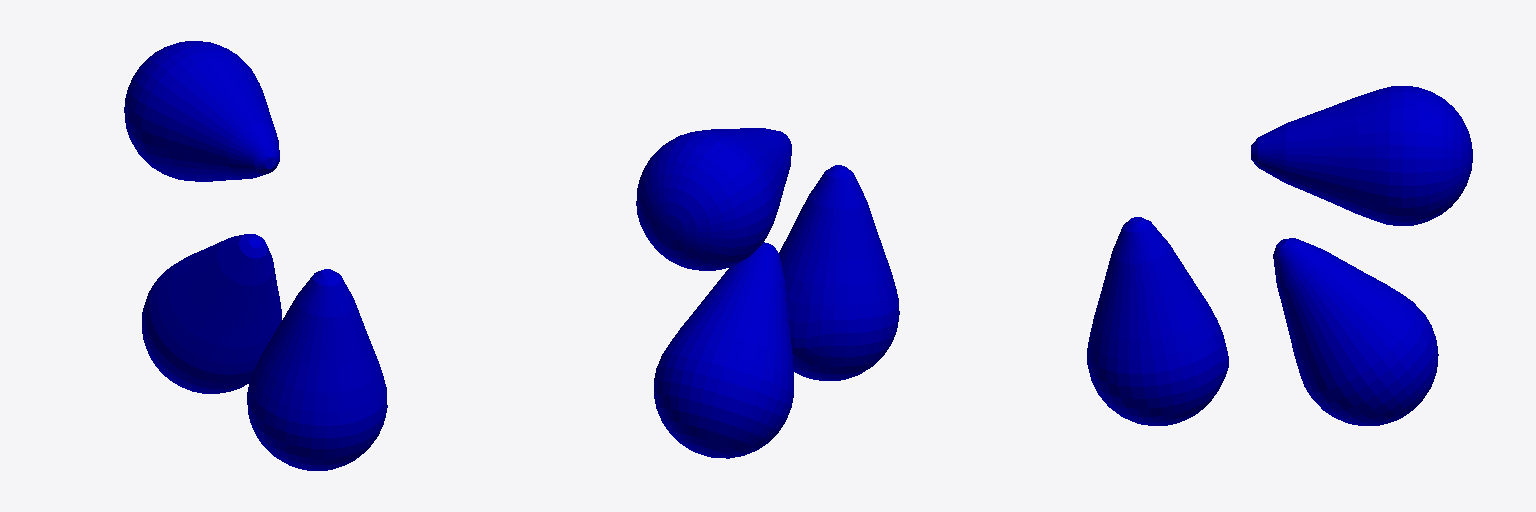
The model's file is tears_full_cargo.obj.
3 views of the same model, side by side, from view 1: azimuth 30°, elevation 25°; view 2: azimuth 150°, elevation 25°; view 3: azimuth 270°, elevation 25° (orthographic).
Parts seen in each view (by area): view 1: tears; view 2: tears; view 3: tears.
Boxes of the visible parts, x1,y1,x2,y2 form: tears: [124, 41, 387, 470]; tears: [636, 128, 899, 458]; tears: [1087, 86, 1472, 425].
Size of the model in its own units: 0.7941 by 2.04 by 2.17.